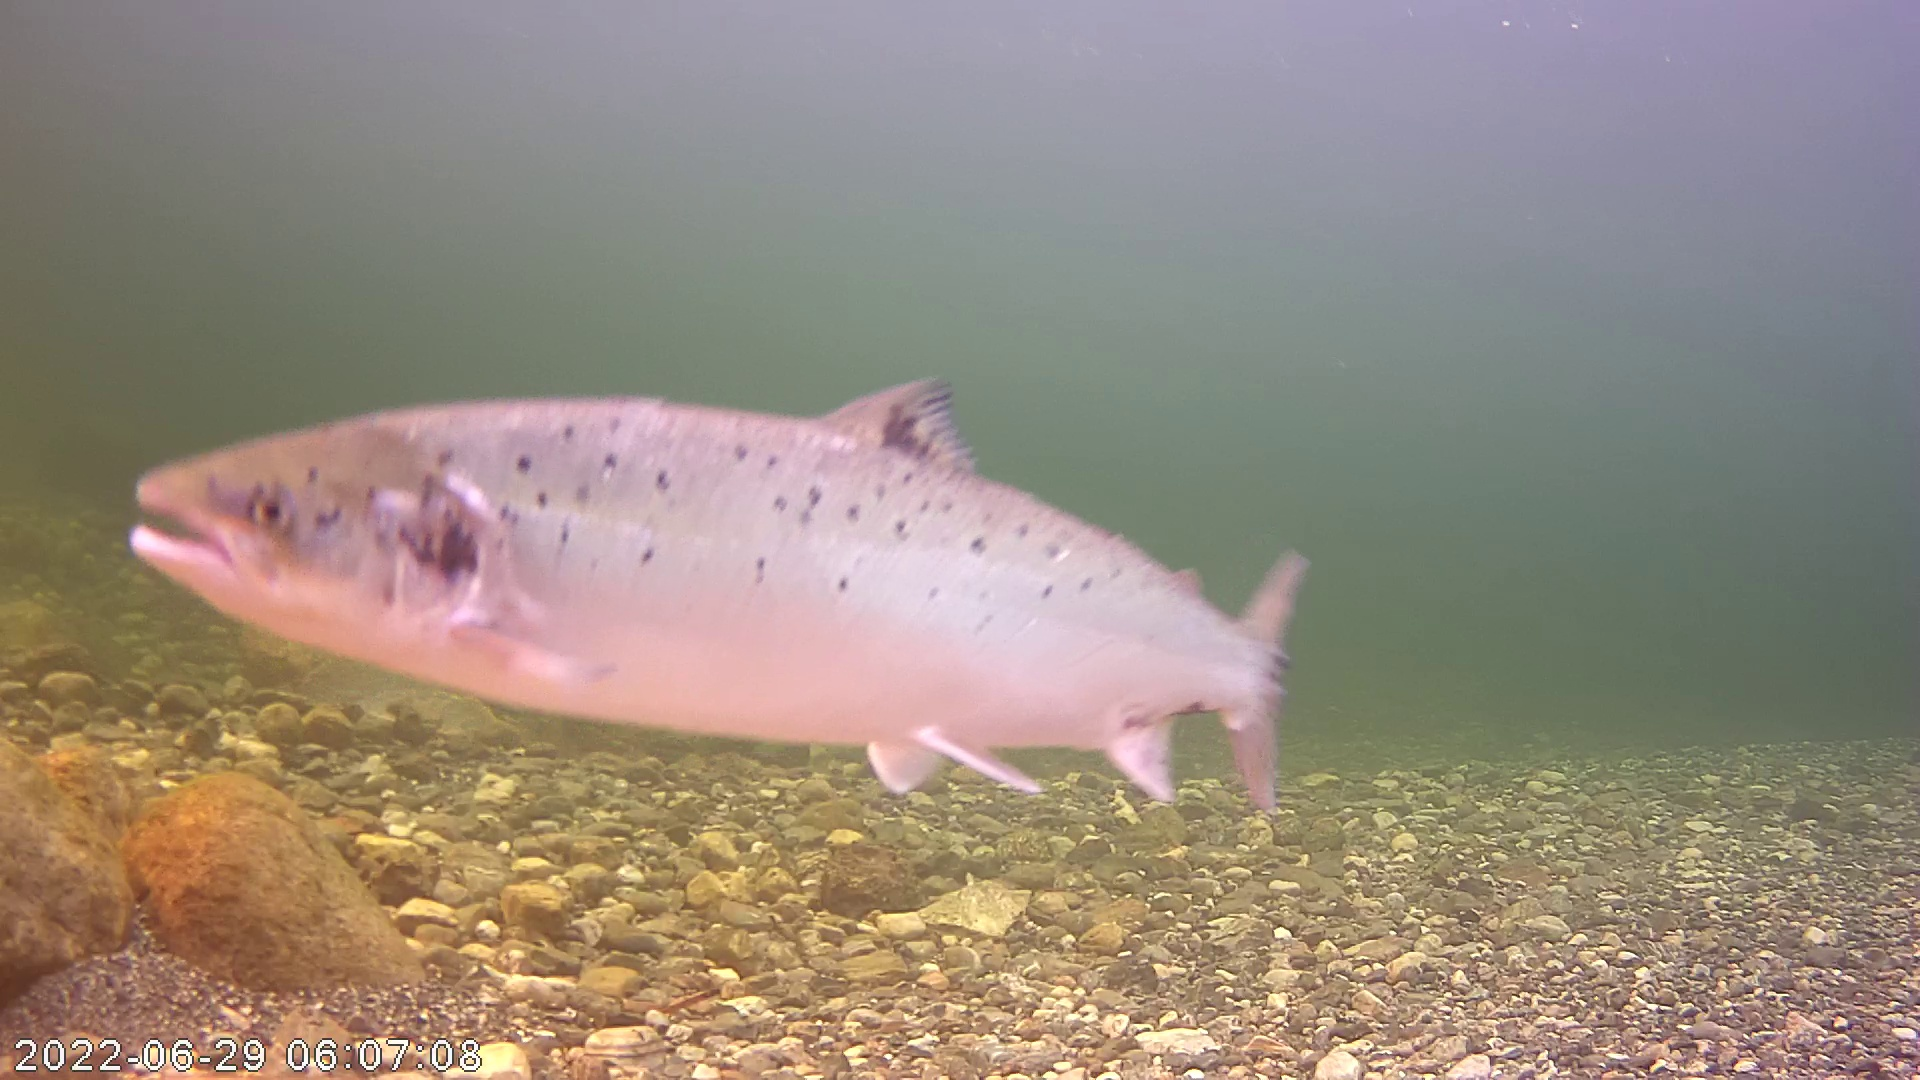salmon: (119, 372, 1312, 818)
